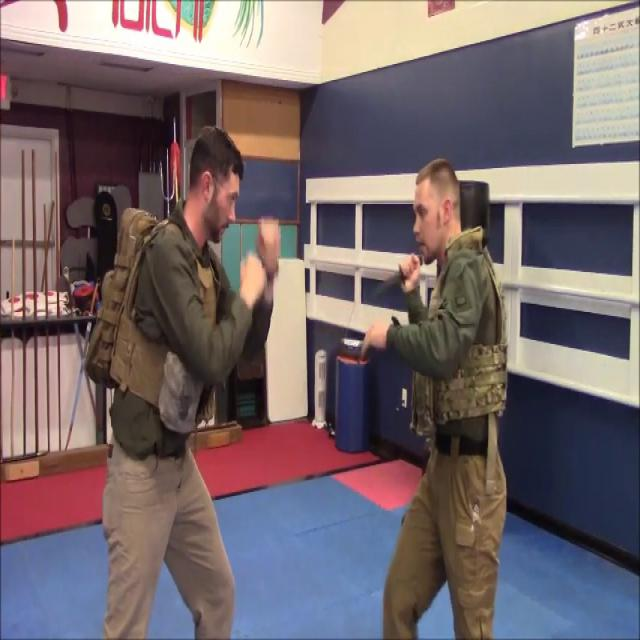knife: (361, 264, 409, 304)
